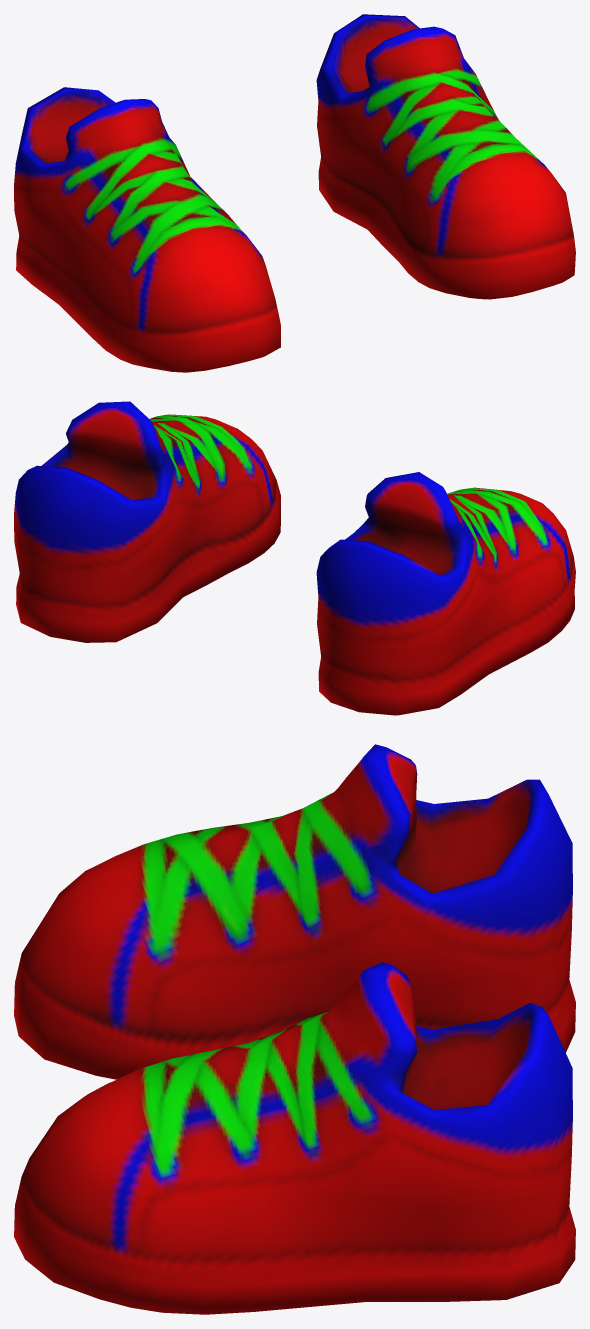
File: BMSC_Outfit_Feet_StreetShoes.obj
The picture shows the model from 3 angles, top to bottom: view 1: azimuth 30°, elevation 25°; view 2: azimuth 150°, elevation 25°; view 3: azimuth 270°, elevation 25°; orthographic projection. The views are drawn at different scales.
Visible parts, largest first — view 1: BMSC_Outfit_Feet_StreetShoes_0; view 2: BMSC_Outfit_Feet_StreetShoes_0; view 3: BMSC_Outfit_Feet_StreetShoes_0.
Part boxes in pixels (<box>): BMSC_Outfit_Feet_StreetShoes_0: <box>14,14,575,372</box>; BMSC_Outfit_Feet_StreetShoes_0: <box>14,401,575,715</box>; BMSC_Outfit_Feet_StreetShoes_0: <box>14,744,575,1314</box>.
Bounding box in the file's own units: 0.3313 × 0.1405 × 0.2406.
Materials: 1 (1 with a texture image).
